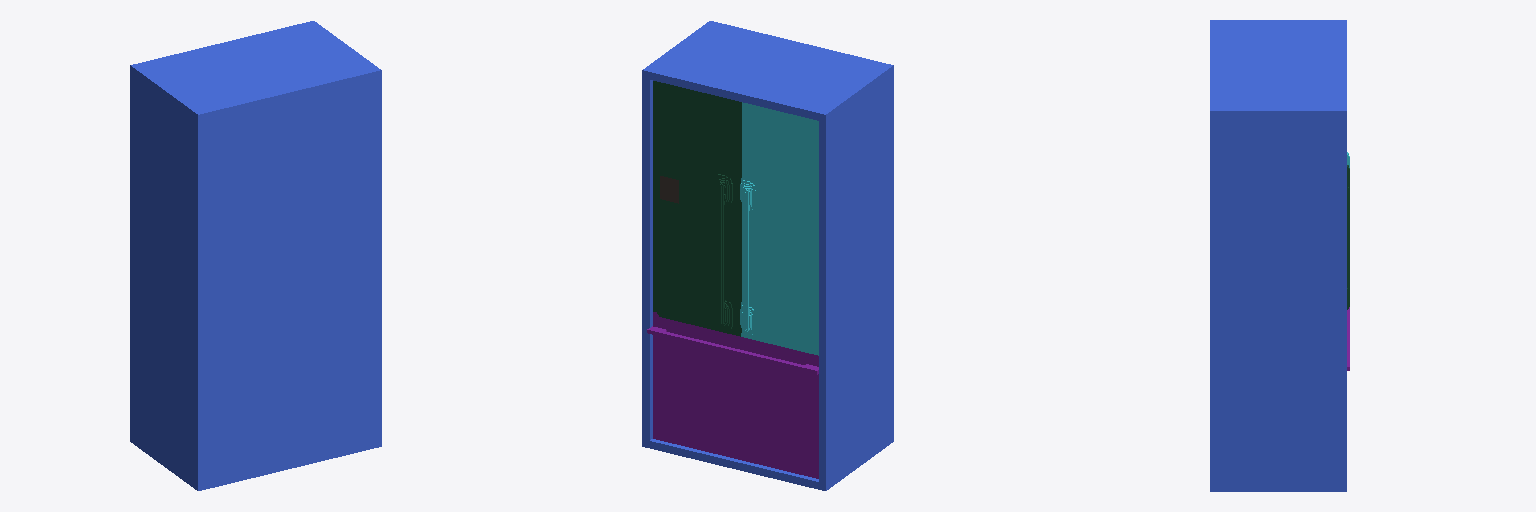
The robot description file, URDF, robot "physxnet_10021_strict":
<?xml version='1.0' encoding='utf-8'?>
<robot name="physxnet_10021_strict">
  <link name="l_world">
    <inertial>
      <origin xyz="0 0 0" rpy="0 0 0" />
      <mass value="0.0100000000" />
      <inertia ixx="0.0000001667" ixy="0.0" ixz="0.0" iyy="0.0000001667" iyz="0.0" izz="0.0000001667" />
    </inertial>
  </link><link name="l_0">
    <inertial>
      <origin xyz="0.0000000000 -0.0133716817 0.0000000000" rpy="0 0 0" />
      <mass value="31.8518446685" />
      <inertia ixx="4.1734507228" ixy="0.0" ixz="0.0" iyy="4.8415183115" iyz="0.0" izz="1.3705263139" />
    </inertial><visual>
      <origin xyz="0 0 0" rpy="0 0 0" />
      <geometry>
        <mesh filename="../rigid_visuals/part_000_visual.obj" scale="1 1 1" />
      </geometry><material name="mat_l_0">
        <color rgba="0.32548 0.48041 0.93131 1.00000" />
      </material>
    </visual><collision>
      <origin xyz="0 0 0" rpy="0 0 0" />
      <geometry>
        <mesh filename="part_000_collision.obj" scale="1 1 1" />
      </geometry>
    </collision>
  </link><joint name="joint_fixed_l_world_l_0" type="fixed">
    <parent link="l_world" />
    <child link="l_0" />
    <origin xyz="0 0 0" rpy="0 0 0" />
  </joint><link name="l_1">
    <inertial>
      <origin xyz="0.1465022837 0.1780535046 0.2065795529" rpy="0 0 0" />
      <mass value="1.0154352451" />
      <inertia ixx="0.0516766735" ixy="0.0" ixz="0.0" iyy="0.0603015784" iyz="0.0" izz="0.0088251703" />
    </inertial><visual>
      <origin xyz="0 0 0" rpy="0 0 0" />
      <geometry>
        <mesh filename="../rigid_visuals/part_001_visual.obj" scale="1 1 1" />
      </geometry><material name="mat_l_1">
        <color rgba="0.15447 0.35718 0.26453 1.00000" />
      </material>
    </visual><collision>
      <origin xyz="0 0 0" rpy="0 0 0" />
      <geometry>
        <mesh filename="part_001_collision.obj" scale="1 1 1" />
      </geometry>
    </collision>
  </link><joint name="joint_fixed_l_0_l_1" type="fixed">
    <parent link="l_0" />
    <child link="l_1" />
    <origin xyz="0 0 0" rpy="0 0 0" />
  </joint><link name="l_2">
    <inertial>
      <origin xyz="-0.1566774271 0.1800168275 0.2066331261" rpy="0 0 0" />
      <mass value="0.8024559973" />
      <inertia ixx="0.0408084311" ixy="0.0" ixz="0.0" iyy="0.0462582856" iyz="0.0" izz="0.0055735330" />
    </inertial><visual>
      <origin xyz="0 0 0" rpy="0 0 0" />
      <geometry>
        <mesh filename="../rigid_visuals/part_002_visual.obj" scale="1 1 1" />
      </geometry><material name="mat_l_2">
        <color rgba="0.29417 0.82410 0.87988 1.00000" />
      </material>
    </visual><collision>
      <origin xyz="0 0 0" rpy="0 0 0" />
      <geometry>
        <mesh filename="part_002_collision.obj" scale="1 1 1" />
      </geometry>
    </collision>
  </link><joint name="joint_fixed_l_1_l_2" type="fixed">
    <parent link="l_1" />
    <child link="l_2" />
    <origin xyz="0 0 0" rpy="0 0 0" />
  </joint><link name="l_3">
    <inertial>
      <origin xyz="0.0006305162 0.1785830557 -0.3771867166" rpy="0 0 0" />
      <mass value="0.9825385244" />
      <inertia ixx="0.0158867222" ixy="0.0" ixz="0.0" iyy="0.0465595839" iyz="0.0" izz="0.0308301030" />
    </inertial><visual>
      <origin xyz="0 0 0" rpy="0 0 0" />
      <geometry>
        <mesh filename="../rigid_visuals/part_003_visual.obj" scale="1 1 1" />
      </geometry><material name="mat_l_3">
        <color rgba="0.55944 0.19916 0.68114 1.00000" />
      </material>
    </visual><collision>
      <origin xyz="0 0 0" rpy="0 0 0" />
      <geometry>
        <mesh filename="part_003_collision.obj" scale="1 1 1" />
      </geometry>
    </collision>
  </link><joint name="joint_fixed_l_2_l_3" type="fixed">
    <parent link="l_2" />
    <child link="l_3" />
    <origin xyz="0 0 0" rpy="0 0 0" />
  </joint><link name="l_4">
    <inertial>
      <origin xyz="0.2299931316 0.1685099076 0.2365651293" rpy="0 0 0" />
      <mass value="0.0001000000" />
      <inertia ixx="0.0000000518" ixy="0.0" ixz="0.0" iyy="0.0000000878" iyz="0.0" izz="0.0000000360" />
    </inertial><visual>
      <origin xyz="0 0 0" rpy="0 0 0" />
      <geometry>
        <mesh filename="../rigid_visuals/part_004_visual.obj" scale="1 1 1" />
      </geometry><material name="mat_l_4">
        <color rgba="0.31347 0.28085 0.26098 1.00000" />
      </material>
    </visual><collision>
      <origin xyz="0 0 0" rpy="0 0 0" />
      <geometry>
        <mesh filename="part_004_collision.obj" scale="1 1 1" />
      </geometry>
    </collision>
  </link><joint name="joint_fixed_l_3_l_4" type="fixed">
    <parent link="l_3" />
    <child link="l_4" />
    <origin xyz="0 0 0" rpy="0 0 0" />
  </joint>
</robot>

--- What the picture shows (computed from the rendered views, not written in the file) ---
3 views of the same robot in one strip: view 1: azimuth 30°, elevation 25°; view 2: azimuth 150°, elevation 25°; view 3: azimuth 270°, elevation 25° (orthographic).
Model physxnet_10021_strict with 6 links and 5 joints (5 fixed), rooted at l_world, posed all joints at 0.
Visible links, largest first — view 1: l_0; view 2: l_0, l_3, l_1, l_2; view 3: l_0.
Boxes of the visible links, left/top/right/bottom form: l_0: left=130, top=21, right=381, bottom=490; l_0: left=642, top=21, right=893, bottom=490; l_3: left=647, top=312, right=818, bottom=478; l_1: left=653, top=81, right=741, bottom=336; l_2: left=740, top=102, right=818, bottom=355; l_0: left=1210, top=20, right=1346, bottom=491.
Size in the robot's own frame: 0.625 by 0.4105 by 1.23 metres.
Meshes: 5 distinct files referenced, 5 mesh visuals loaded (5 OBJ).
